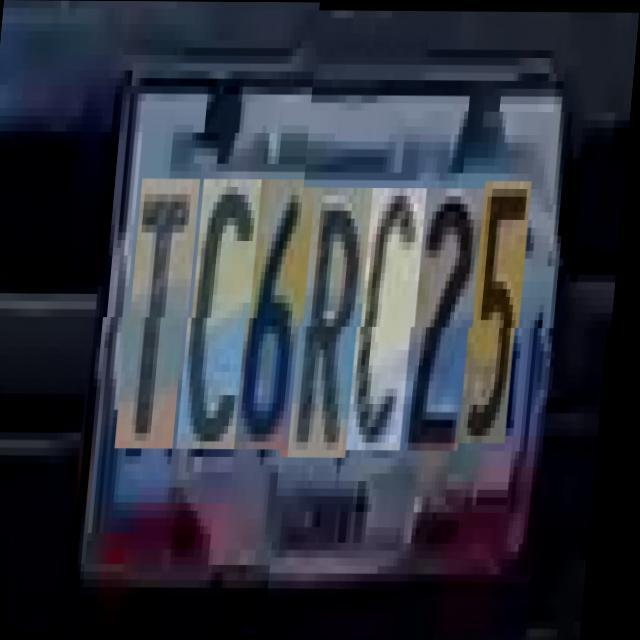2: (412, 188, 488, 450)
5: (470, 180, 536, 442)
6: (246, 187, 318, 457)
C: (188, 186, 264, 456), (358, 188, 431, 450)
R: (299, 187, 376, 457)
T: (126, 186, 203, 456)
